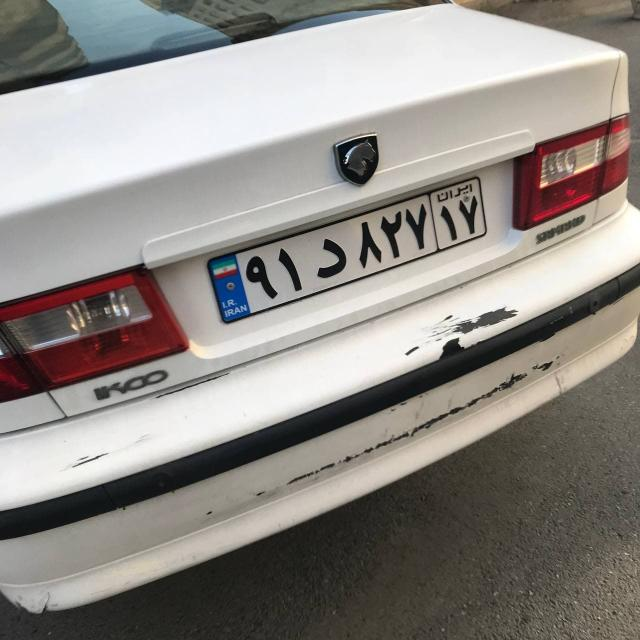Plates: (206, 173, 497, 322)
